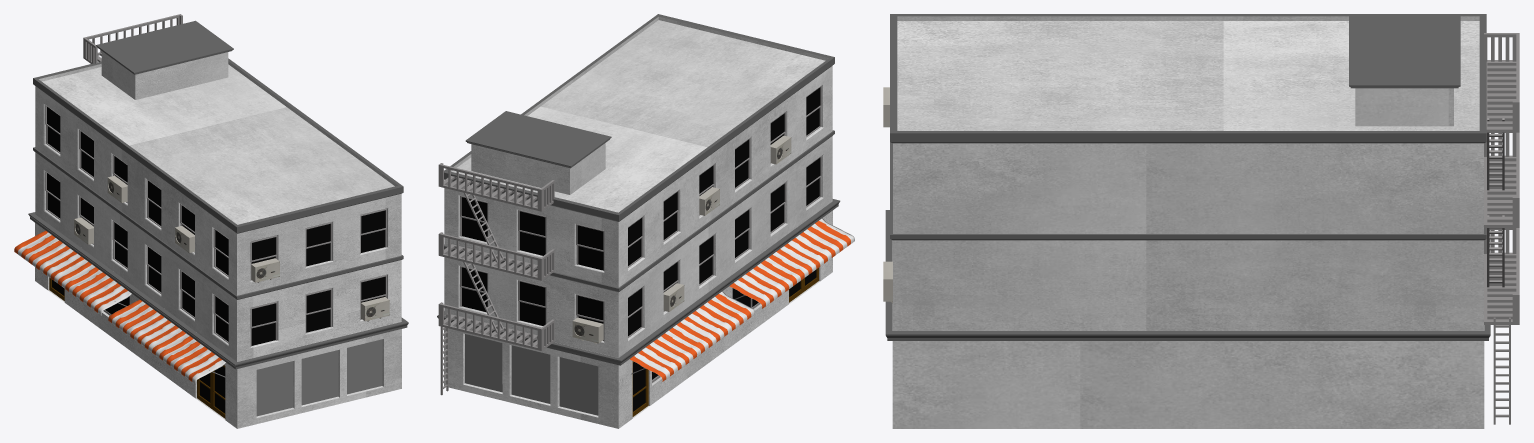
File: Building 4.fbx
3 renders of one model, left to right at view 1: azimuth 30°, elevation 25°; view 2: azimuth 150°, elevation 25°; view 3: azimuth 270°, elevation 25°, orthographic. The views are drawn at different scales.
Parts seen in each view (by area): view 1: Cube.037, Cube.018, Building 4 (1), Plane.001, Plane, Cube.034, Cube.035, Cube.052, Cube.053, Cube.054, Cube.051, Building 4 (1).003 (+16 smaller); view 2: Cube.037, Cube.018, Building 4 (1), Plane.001, Plane, Cube.049, Cube.031, Cube.054, Cube.044, Cube.029, Cube.045, Cube.046 (+19 smaller); view 3: Cube.037, Building 4 (1), Cube.018, Cube.054, Cube.031, Cube.049, Cube.032, Cube.033, Cube.050.
Boxes of the visible parts, x1,y1,x2,y2 form: Cube.037: (33,20,403,295); Cube.018: (33,147,403,361); Building 4 (1): (28,212,408,428); Plane.001: (108,299,225,384); Plane: (14,230,131,315); Cube.034: (250,302,277,346); Cube.035: (305,288,332,332); Cube.052: (305,222,332,266); Cube.053: (360,209,386,253); Cube.054: (83,14,182,63); Cube.051: (250,235,277,280); Building 4 (1).003: (212,365,225,418); Cube.037: (444,14,834,287); Cube.018: (444,130,834,357); Building 4 (1): (437,199,840,428); Plane.001: (729,218,854,308); Plane: (630,291,754,381); Cube.049: (438,232,554,280); Cube.031: (438,302,554,350); Cube.054: (438,163,554,211); Cube.044: (576,224,604,270); Cube.029: (518,280,546,325); Cube.045: (518,210,546,255); Cube.046: (460,195,487,241); Cube.037: (890,14,1486,233); Building 4 (1): (885,210,1490,428); Cube.018: (890,142,1486,330); Cube.054: (1484,33,1519,132); Cube.031: (1484,228,1519,324); Cube.049: (1484,132,1519,227); Cube.032: (1493,317,1510,424); Cube.033: (1487,215,1504,287); Cube.050: (1487,118,1504,190).
Bounding box in the file's own units: 1831 × 2000 × 3441.
Materials: 11 (3 with a texture image).
